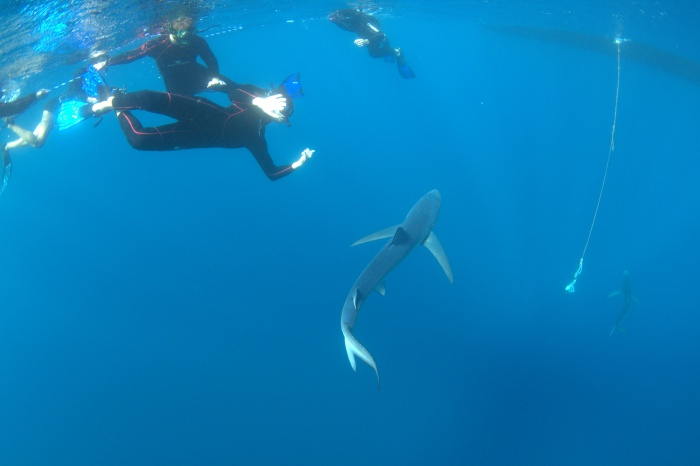Azul: (137, 227, 499, 386), (302, 181, 473, 376)
